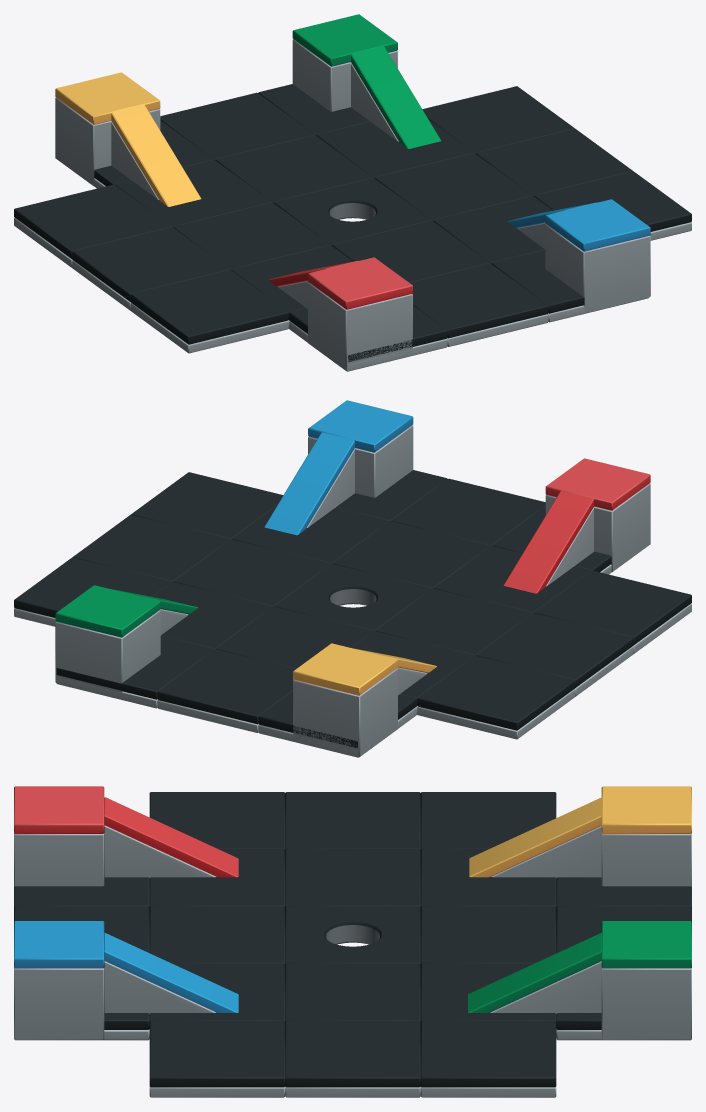
File: level.glb
3 renders of one model, top to bottom at view 1: azimuth 30°, elevation 25°; view 2: azimuth 150°, elevation 25°; view 3: azimuth 270°, elevation 25°, orthographic. The views are drawn at different scales.
Visible parts, largest first — view 1: platform_4x4x4_blue.004, platform_4x4x4_blue.003, platform_6x6x1_blue.017, platform_6x6x1_blue.012, platform_6x6x1_blue.018, platform_6x6x1_blue.019, platform_4x4x4_blue.001, platform_4x4x4_blue.002, platform_6x6x1_blue.001, platform_6x6x1_blue.006, platform_6x6x1_blue.002, platform_6x6x1_blue.015 (+17 smaller); view 2: platform_4x4x4_blue.001, platform_4x4x4_blue.002, platform_6x6x1_blue.019, platform_6x6x1_blue.002, platform_6x6x1_blue.017, platform_6x6x1_blue.018, platform_4x4x4_blue.004, platform_4x4x4_blue.003, platform_6x6x1_blue.011, platform_6x6x1_blue.006, platform_6x6x1_blue.012, platform_6x6x1_blue.015 (+17 smaller); view 3: platform_4x4x4_blue.003, platform_4x4x4_blue.002, platform_6x6x1_blue.014, platform_6x6x1_blue.016, platform_6x6x1_blue.015, platform_4x4x4_blue.004, platform_4x4x4_blue.001, platform_6x6x1_blue.005, platform_6x6x1_blue.006, platform_6x6x1_blue.001, platform_hole_6x6x1_blue, platform_6x6x1_blue.011 (+17 smaller).
Boxes of the visible parts, x1,y1,x2,y2 form: platform_4x4x4_blue.004: (308,257,412,371); platform_4x4x4_blue.003: (545,199,650,312); platform_6x6x1_blue.017: (130,270,288,353); platform_6x6x1_blue.012: (410,263,548,346); platform_6x6x1_blue.018: (72,227,230,310); platform_6x6x1_blue.019: (14,184,171,267); platform_4x4x4_blue.001: (55,72,160,186); platform_4x4x4_blue.002: (292,14,397,111); platform_6x6x1_blue.001: (215,135,372,202); platform_6x6x1_blue.006: (375,153,532,220); platform_6x6x1_blue.002: (160,92,314,160); platform_6x6x1_blue.015: (475,128,633,196); platform_4x4x4_blue.001: (293,643,397,757); platform_4x4x4_blue.002: (55,585,160,692); platform_6x6x1_blue.019: (417,656,575,739); platform_6x6x1_blue.002: (157,649,295,732); platform_6x6x1_blue.017: (534,570,691,653); platform_6x6x1_blue.018: (475,613,633,696); platform_4x4x4_blue.004: (545,458,650,572); platform_4x4x4_blue.003: (308,400,413,497); platform_6x6x1_blue.011: (333,521,490,588); platform_6x6x1_blue.006: (173,539,330,606); platform_6x6x1_blue.012: (391,478,545,546); platform_6x6x1_blue.015: (72,514,230,582); platform_4x4x4_blue.003: (14,921,104,1039); platform_4x4x4_blue.002: (601,921,691,1039); platform_6x6x1_blue.014: (420,1020,556,1097); platform_6x6x1_blue.016: (149,1020,285,1097); platform_6x6x1_blue.015: (285,1020,420,1097); platform_4x4x4_blue.004: (14,786,104,886); platform_4x4x4_blue.001: (601,786,691,886); platform_6x6x1_blue.005: (285,849,420,906); platform_6x6x1_blue.006: (285,963,420,1020); platform_6x6x1_blue.001: (420,906,556,964); platform_hole_6x6x1_blue: (285,906,420,963); platform_6x6x1_blue.011: (149,906,285,964).
Bounding box in the file's own units: 29.94 × 4.04 × 30.
Materials: 29 (29 with a texture image).
